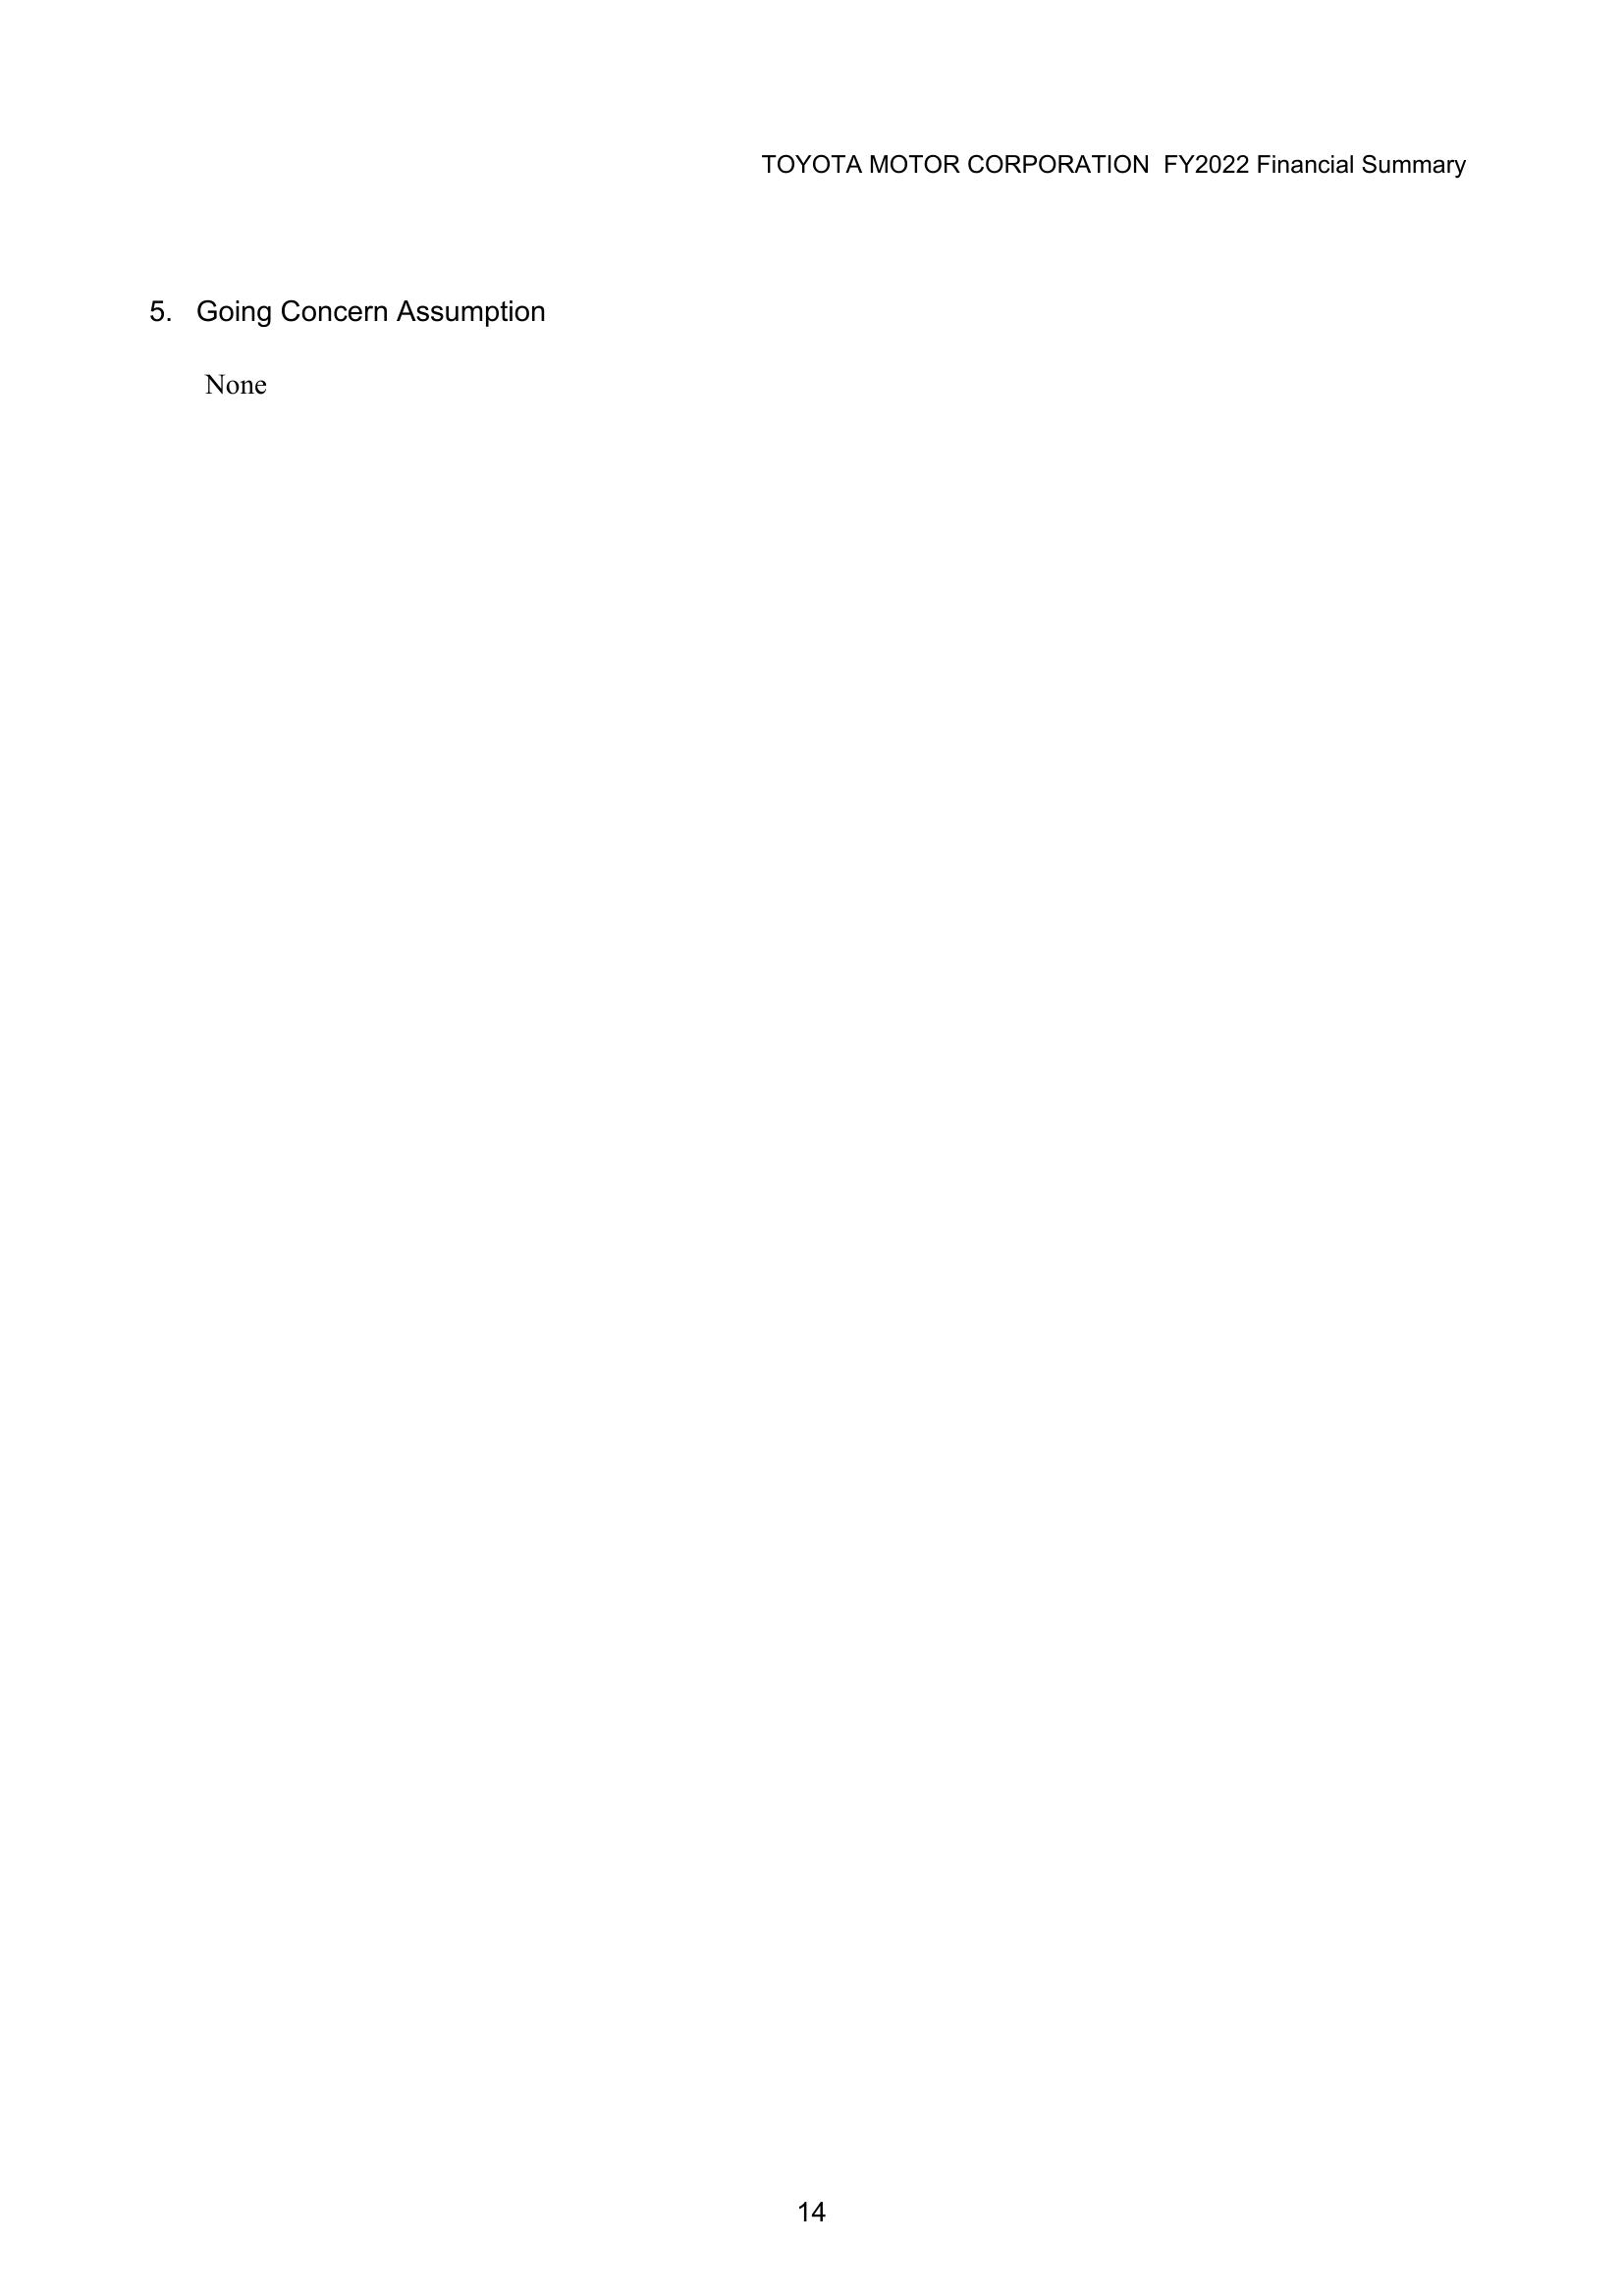Footer: (0, 2175, 1624, 2296)
Header: (0, 0, 1624, 220)
